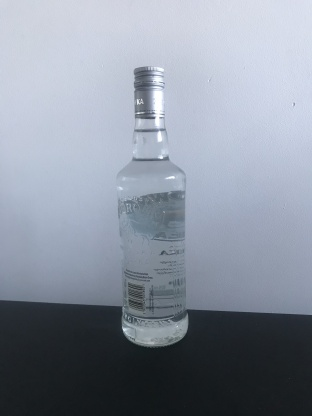nakretka: (132, 65, 166, 119)
